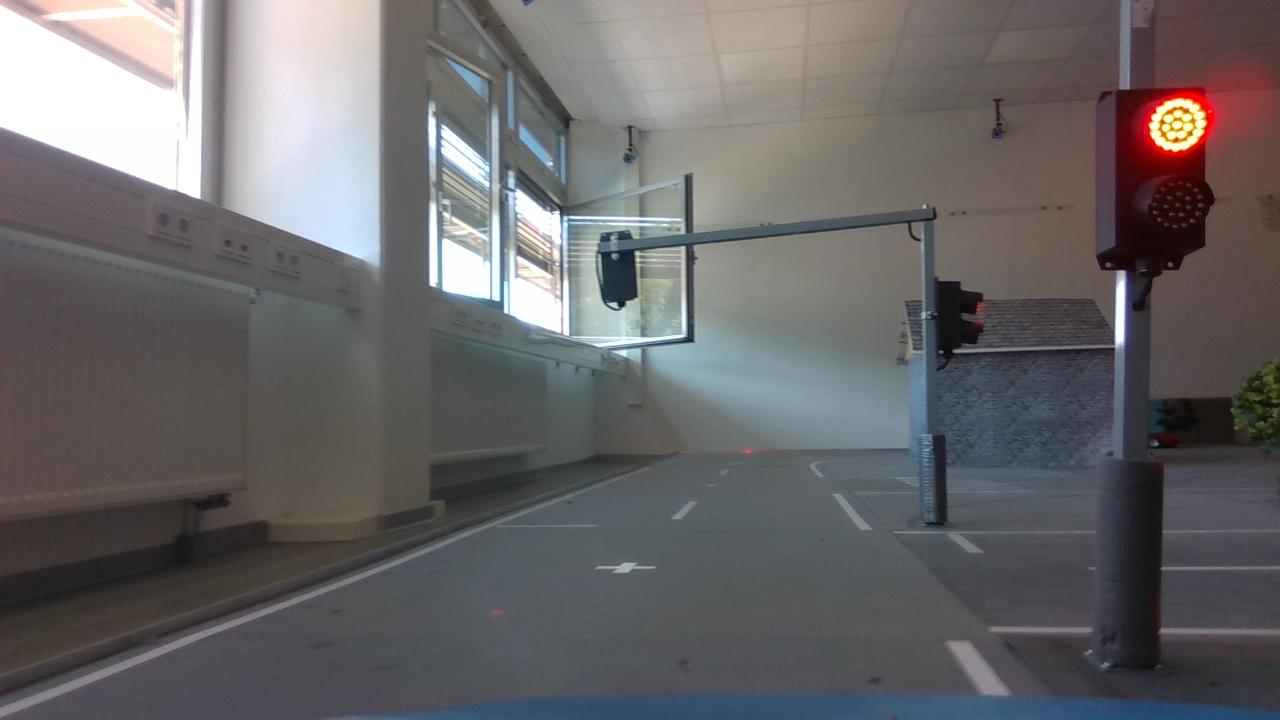traffic_light_red: (1084, 77, 1229, 279)
